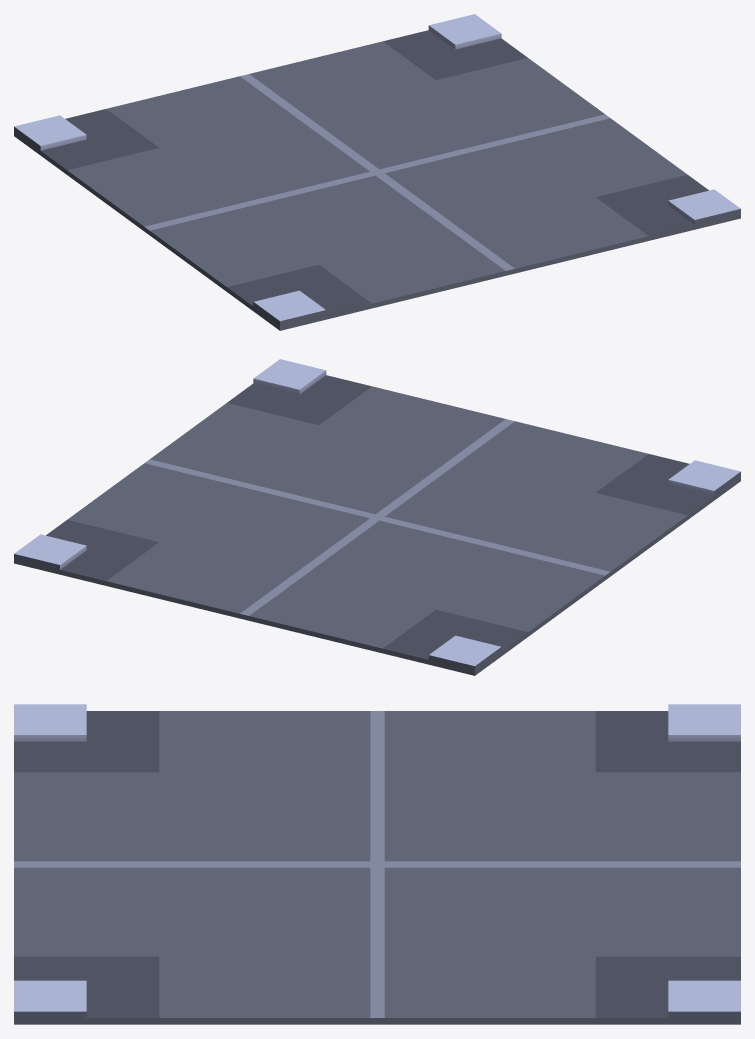
File: road-crossroad-line.glb
3 renders of one model, top to bottom at view 1: azimuth 30°, elevation 25°; view 2: azimuth 150°, elevation 25°; view 3: azimuth 270°, elevation 25°, orthographic. The views are drawn at different scales.
Parts seen in each view (by area): view 1: road-crossroad-line; view 2: road-crossroad-line; view 3: road-crossroad-line.
Boxes of the visible parts, box(x1,y1,x2,y2) form: road-crossroad-line: box(14, 14, 740, 330); road-crossroad-line: box(14, 359, 740, 675); road-crossroad-line: box(14, 704, 740, 1024).
Size of the model in its own units: 1 by 0.02 by 1.
1 material, 1 textured.
